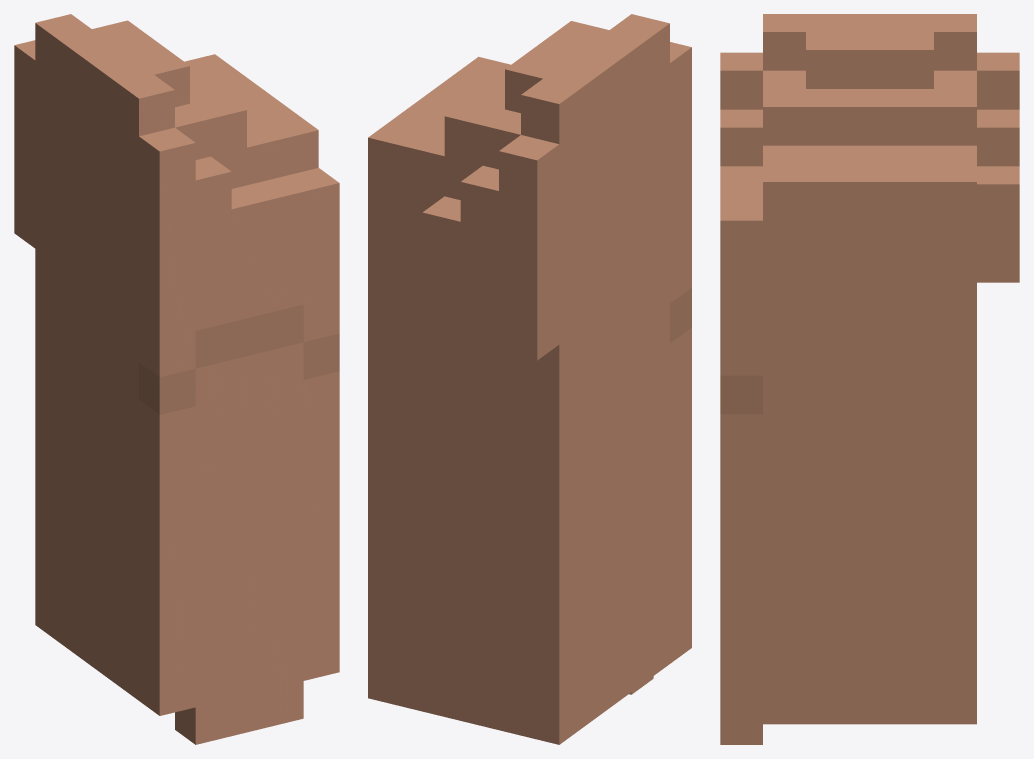
Rendered from Player0-0.obj.
3 views of the same model, side by side, from view 1: azimuth 30°, elevation 25°; view 2: azimuth 150°, elevation 25°; view 3: azimuth 270°, elevation 25° (orthographic). The views are drawn at different scales.
Size of the model in its own units: 0.5 by 1.7 by 0.7.
Materials: 1 (1 with a texture image).
